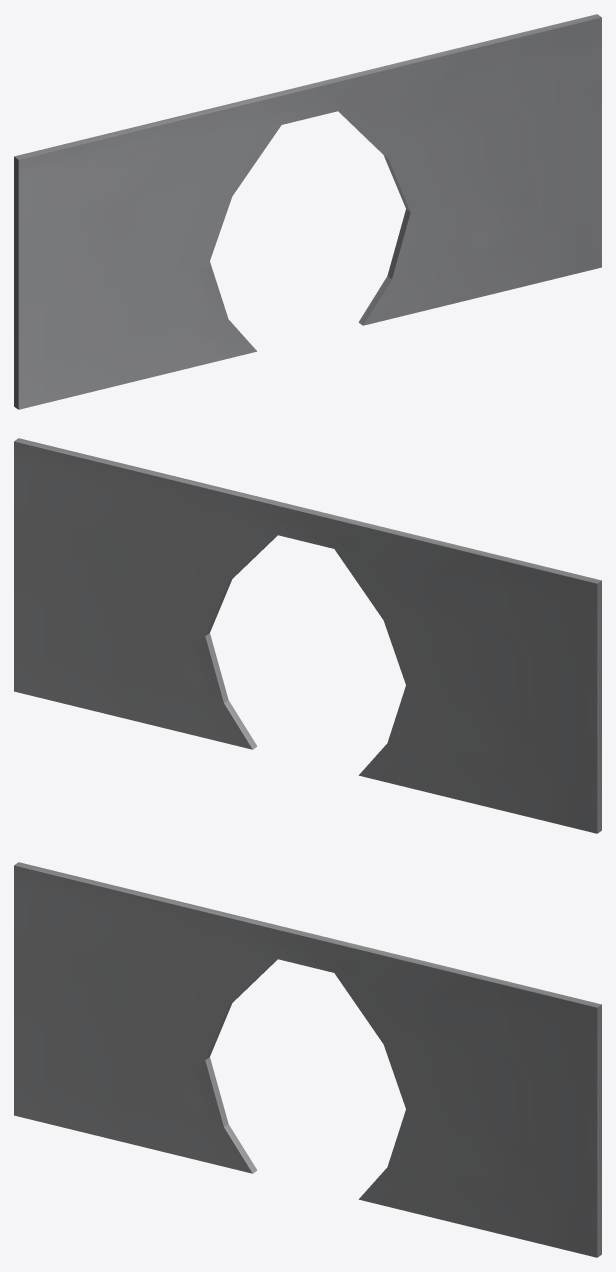
The model's file is pared entrada agujero.fbx.
The picture shows the model from 3 angles, top to bottom: view 1: azimuth 30°, elevation 25°; view 2: azimuth 150°, elevation 25°; view 3: azimuth 330°, elevation 25°; orthographic projection.
Visible parts, largest first — view 1: Ajugero pincipio primer nivel; view 2: Ajugero pincipio primer nivel; view 3: Ajugero pincipio primer nivel.
Boxes of the visible parts, <box> form: Ajugero pincipio primer nivel: <box>14,14,601,409</box>; Ajugero pincipio primer nivel: <box>14,438,601,833</box>; Ajugero pincipio primer nivel: <box>14,862,601,1257</box>.
Bounding box in the file's own units: 732 × 300 × 10.
1 material, 1 textured.
